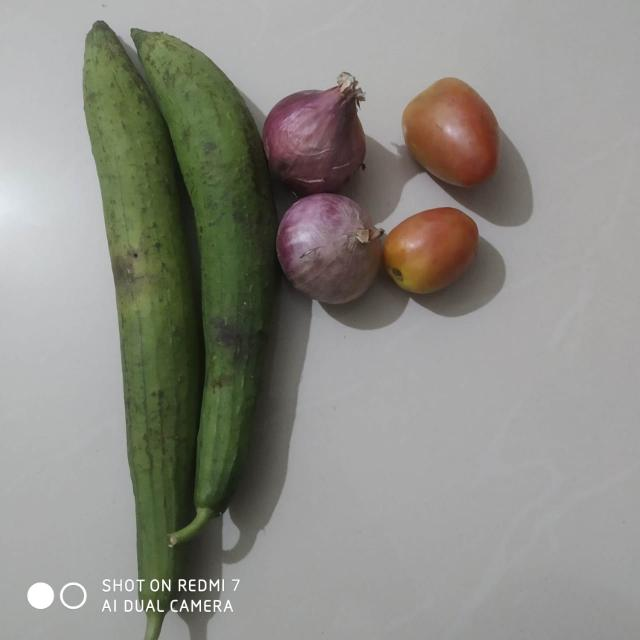Organik: (66, 18, 272, 640), (264, 177, 389, 308), (397, 58, 515, 195), (266, 65, 380, 195), (392, 197, 497, 305)
